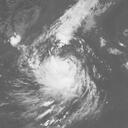cyclone: (32, 53, 95, 108)
